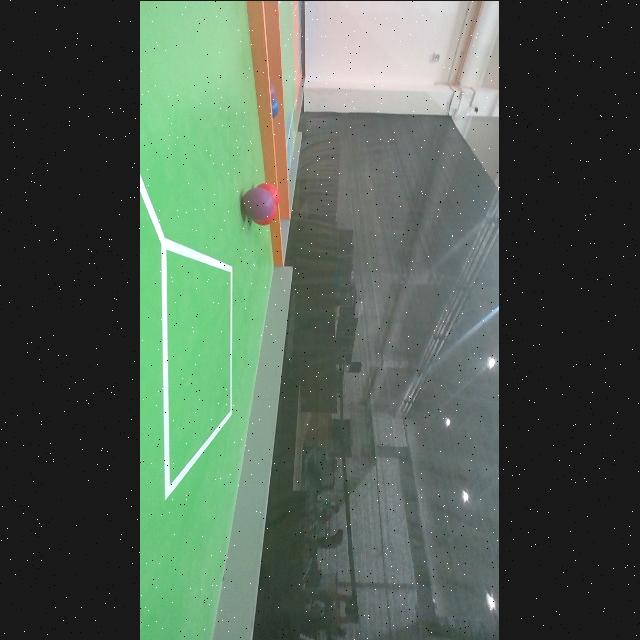P: (242, 186, 276, 220)
R: (254, 200, 278, 223)
